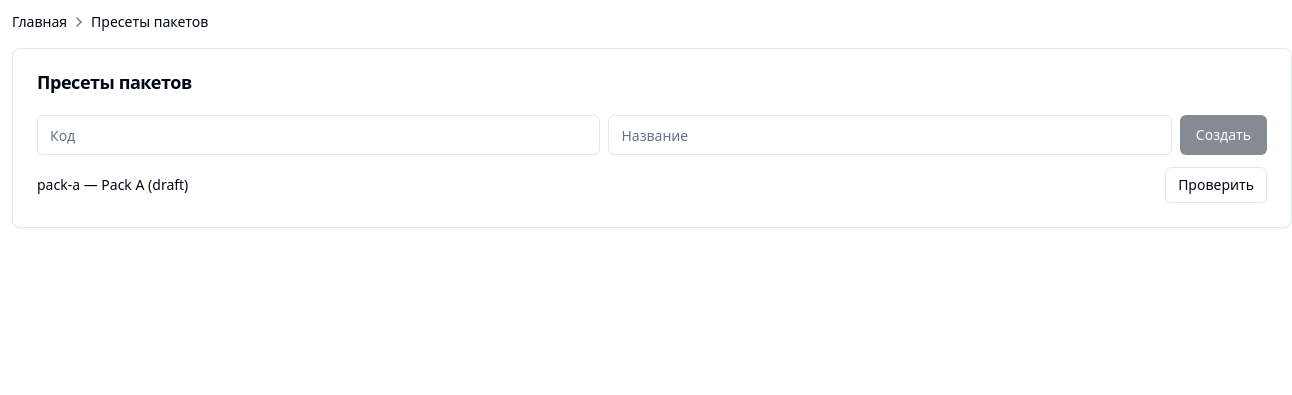
Test: package action states › shows error when preset validation fails without reloading away the list
The width and height of the screenshot is (1292, 395).
Expected: the text "pack-a — Pack A (draft)" is shown, [37,175,188,195]
What coordinates should you click on to do the following:
click the button "Проверить"
I would click on:
 (1216, 185)
Its box is [1165,167,1267,203].
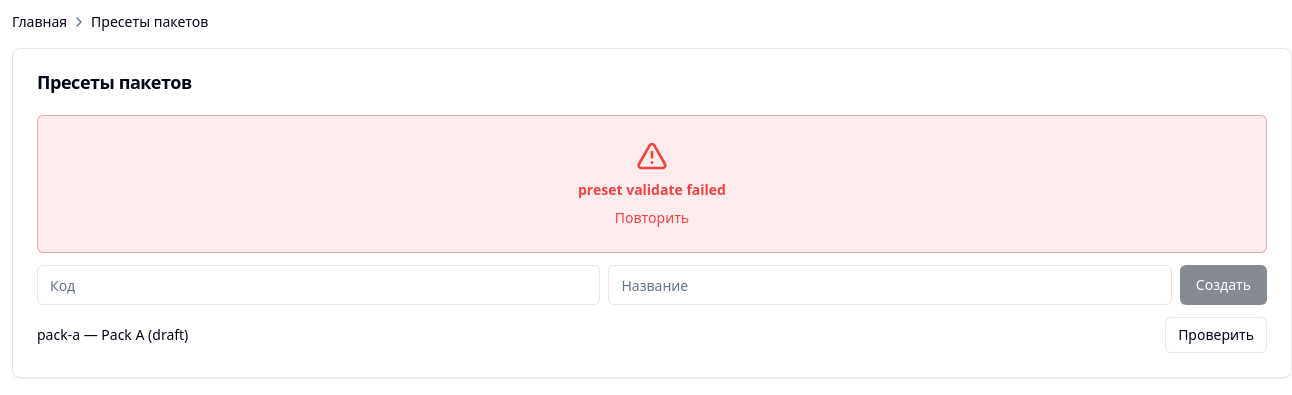
Expected: the text "pack-a — Pack A (draft)" is shown, [37,325,188,345]
Result: the message shows "preset validate failed" at [578,180,726,199]
